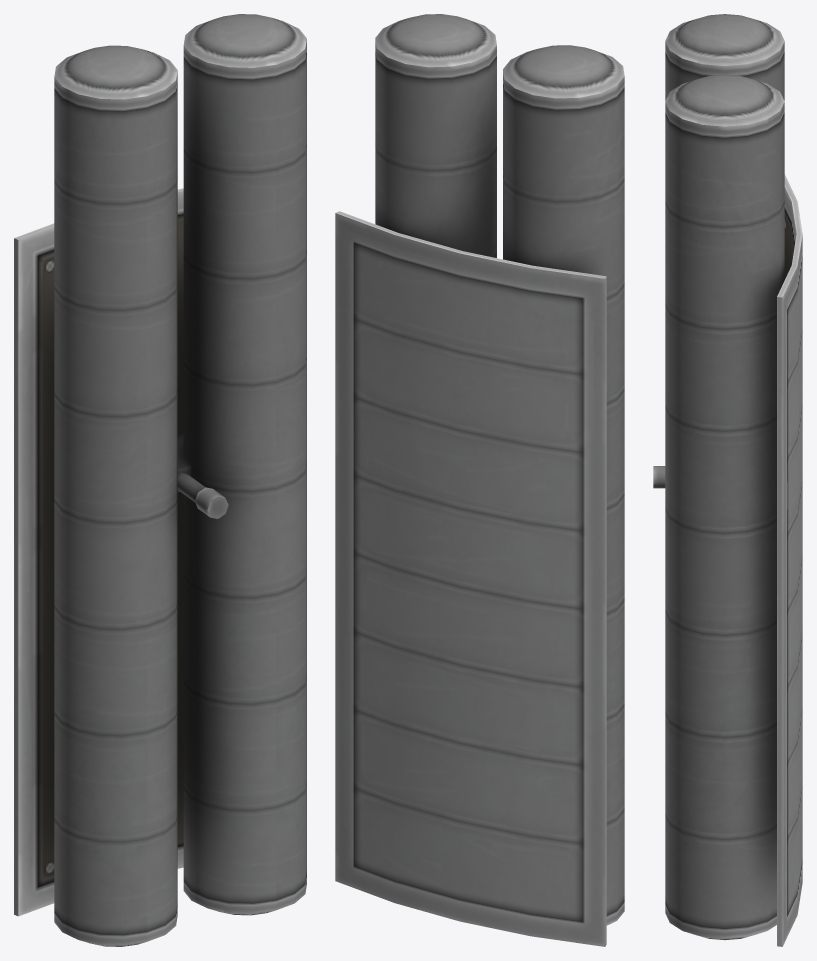
The model's file is aquila_radiator_tank_double_srf_2.obj.
3 views of the same model, side by side, from view 1: azimuth 30°, elevation 25°; view 2: azimuth 150°, elevation 25°; view 3: azimuth 270°, elevation 25° (orthographic). The views are drawn at different scales.
Visible parts, largest first — view 1: aquila_radiator_tank_double_srf_2; view 2: aquila_radiator_tank_double_srf_2; view 3: aquila_radiator_tank_double_srf_2.
Part boxes in pixels (left/top/right/bottom): aquila_radiator_tank_double_srf_2: left=14, top=14, right=306, bottom=946; aquila_radiator_tank_double_srf_2: left=335, top=14, right=624, bottom=946; aquila_radiator_tank_double_srf_2: left=653, top=14, right=802, bottom=946.
Size of the model in its own units: 0.6341 by 1.95 by 0.3125.
